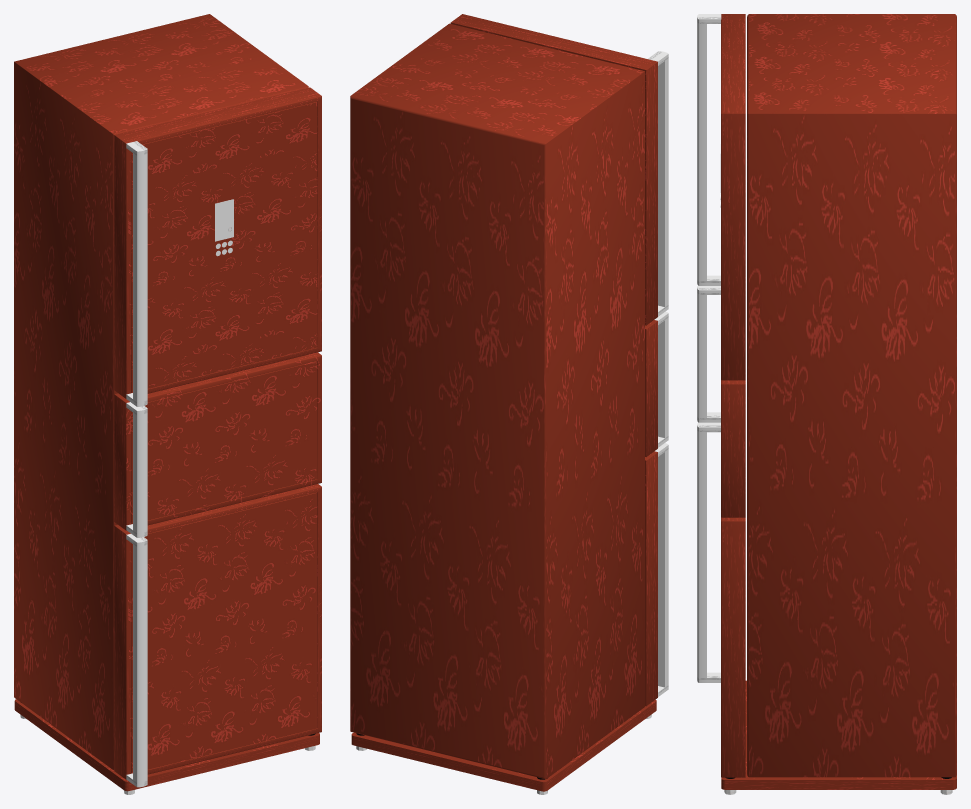
The model's file is fridge.obj.
3 renders of one model, left to right at view 1: azimuth 30°, elevation 25°; view 2: azimuth 150°, elevation 25°; view 3: azimuth 270°, elevation 25°, orthographic. The views are drawn at different scales.
Visible parts, largest first — view 1: Box05, Box25, Box03, Box24, Object01, Box26, Box28, Box04, Box27, Box06; view 2: Box05, Object01, Box04, Box25, Box26, Box28, Box24, Box27, Box03; view 3: Box05, Object01, Box25, Box24, Box04, Box26, Box28, Box27.
Part boxes in pixels (x1,y1,x2,y2): Box05: [14, 14, 308, 769]; Box25: [114, 484, 321, 779]; Box03: [131, 102, 317, 392]; Box24: [114, 352, 321, 530]; Object01: [114, 87, 321, 398]; Box26: [126, 141, 147, 406]; Box28: [126, 534, 147, 787]; Box04: [14, 699, 319, 791]; Box27: [126, 402, 147, 537]; Box06: [215, 199, 233, 241]; Box05: [350, 23, 644, 779]; Object01: [451, 14, 657, 325]; Box04: [351, 700, 656, 791]; Box25: [645, 451, 657, 706]; Box26: [648, 51, 668, 316]; Box28: [655, 443, 668, 696]; Box24: [645, 320, 657, 456]; Box27: [654, 311, 668, 447]; Box03: [450, 22, 646, 325]; Box05: [747, 14, 956, 777]; Object01: [721, 14, 745, 380]; Box25: [721, 517, 745, 777]; Box24: [721, 380, 745, 517]; Box04: [721, 680, 956, 789]; Box26: [697, 14, 721, 285]; Box28: [697, 422, 720, 682]; Box27: [697, 285, 720, 422].
Bounding box in the file's own units: 480 × 1532 × 528.
